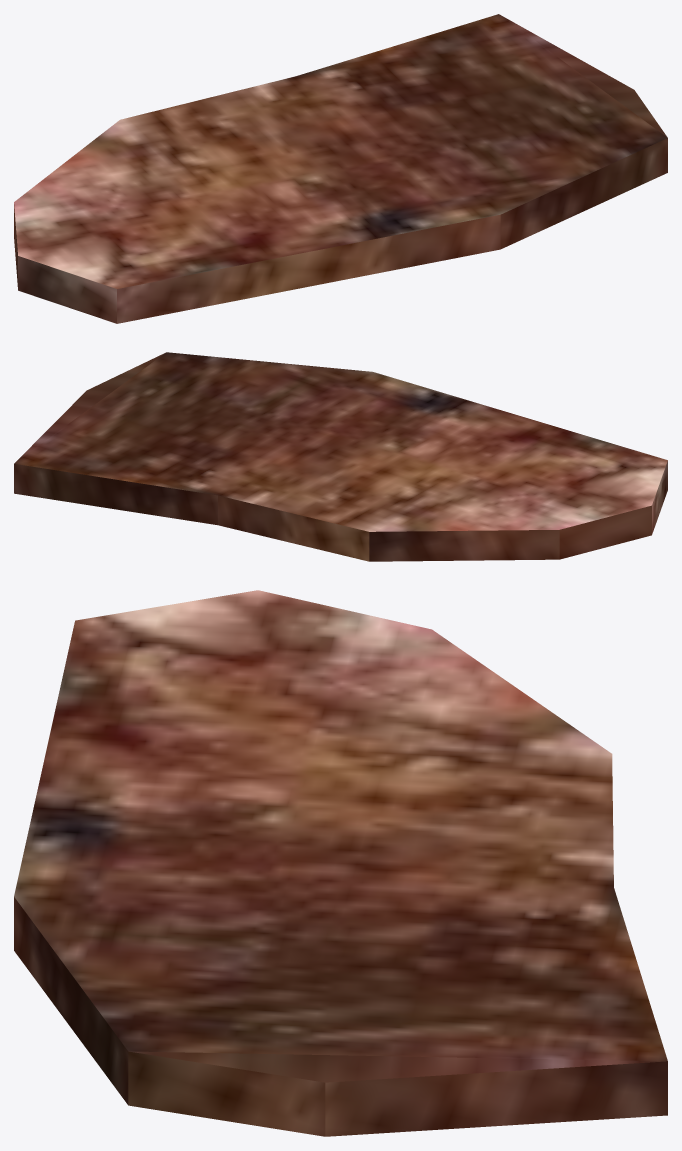
Rendered from Roast_meat_02-col.glb.
3 renders of one model, top to bottom at view 1: azimuth 30°, elevation 25°; view 2: azimuth 150°, elevation 25°; view 3: azimuth 270°, elevation 25°, orthographic. The views are drawn at different scales.
Parts seen in each view (by area): view 1: Roast_meat_02-col; view 2: Roast_meat_02-col; view 3: Roast_meat_02-col.
Part boxes in pixels (left/top/right/bottom): Roast_meat_02-col: left=14, top=14, right=667, bottom=323; Roast_meat_02-col: left=14, top=352, right=667, bottom=561; Roast_meat_02-col: left=14, top=590, right=667, bottom=1136.
Size of the model in its own units: 0.4081 by 0.0247 by 0.2331.
Materials: 1 (1 with a texture image).
